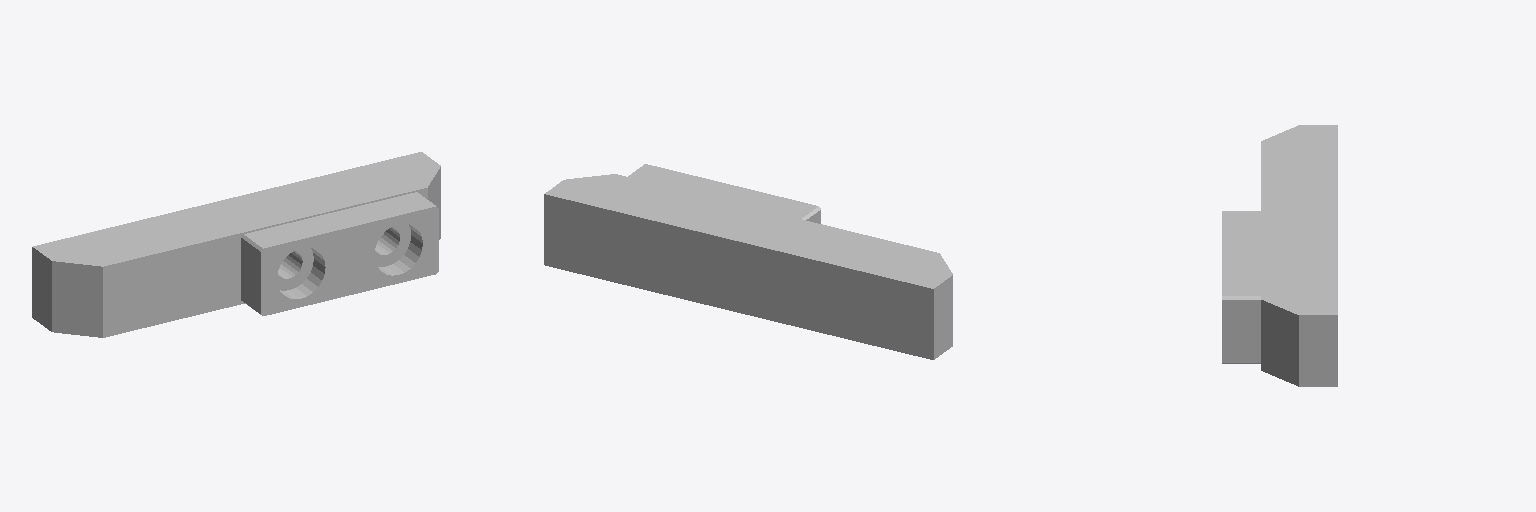
The model's file is wr_finger_left_CRG200_base_jaw_CRG200_base_jaw_CRG200_base_jaw.obj.
The picture shows the model from 3 angles: view 1: azimuth 30°, elevation 25°; view 2: azimuth 150°, elevation 25°; view 3: azimuth 270°, elevation 25°; orthographic projection.
Bounding box in the file's own units: 0.048 × 0.0084 × 0.0124.